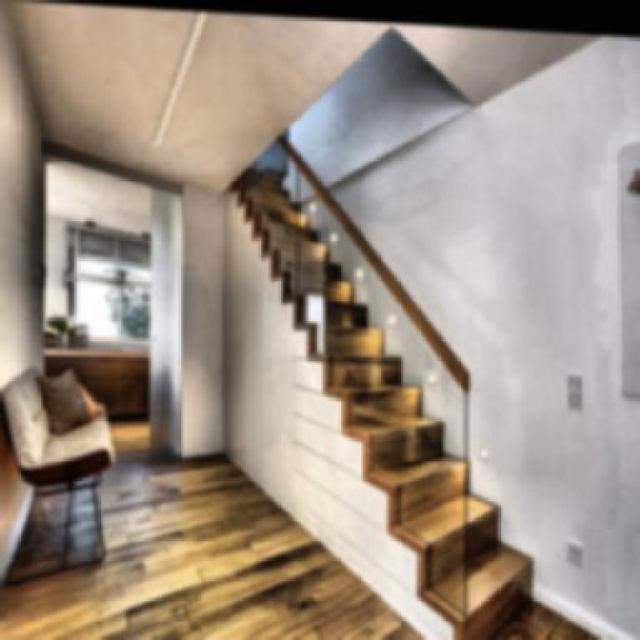stair: (231, 186, 534, 571)
